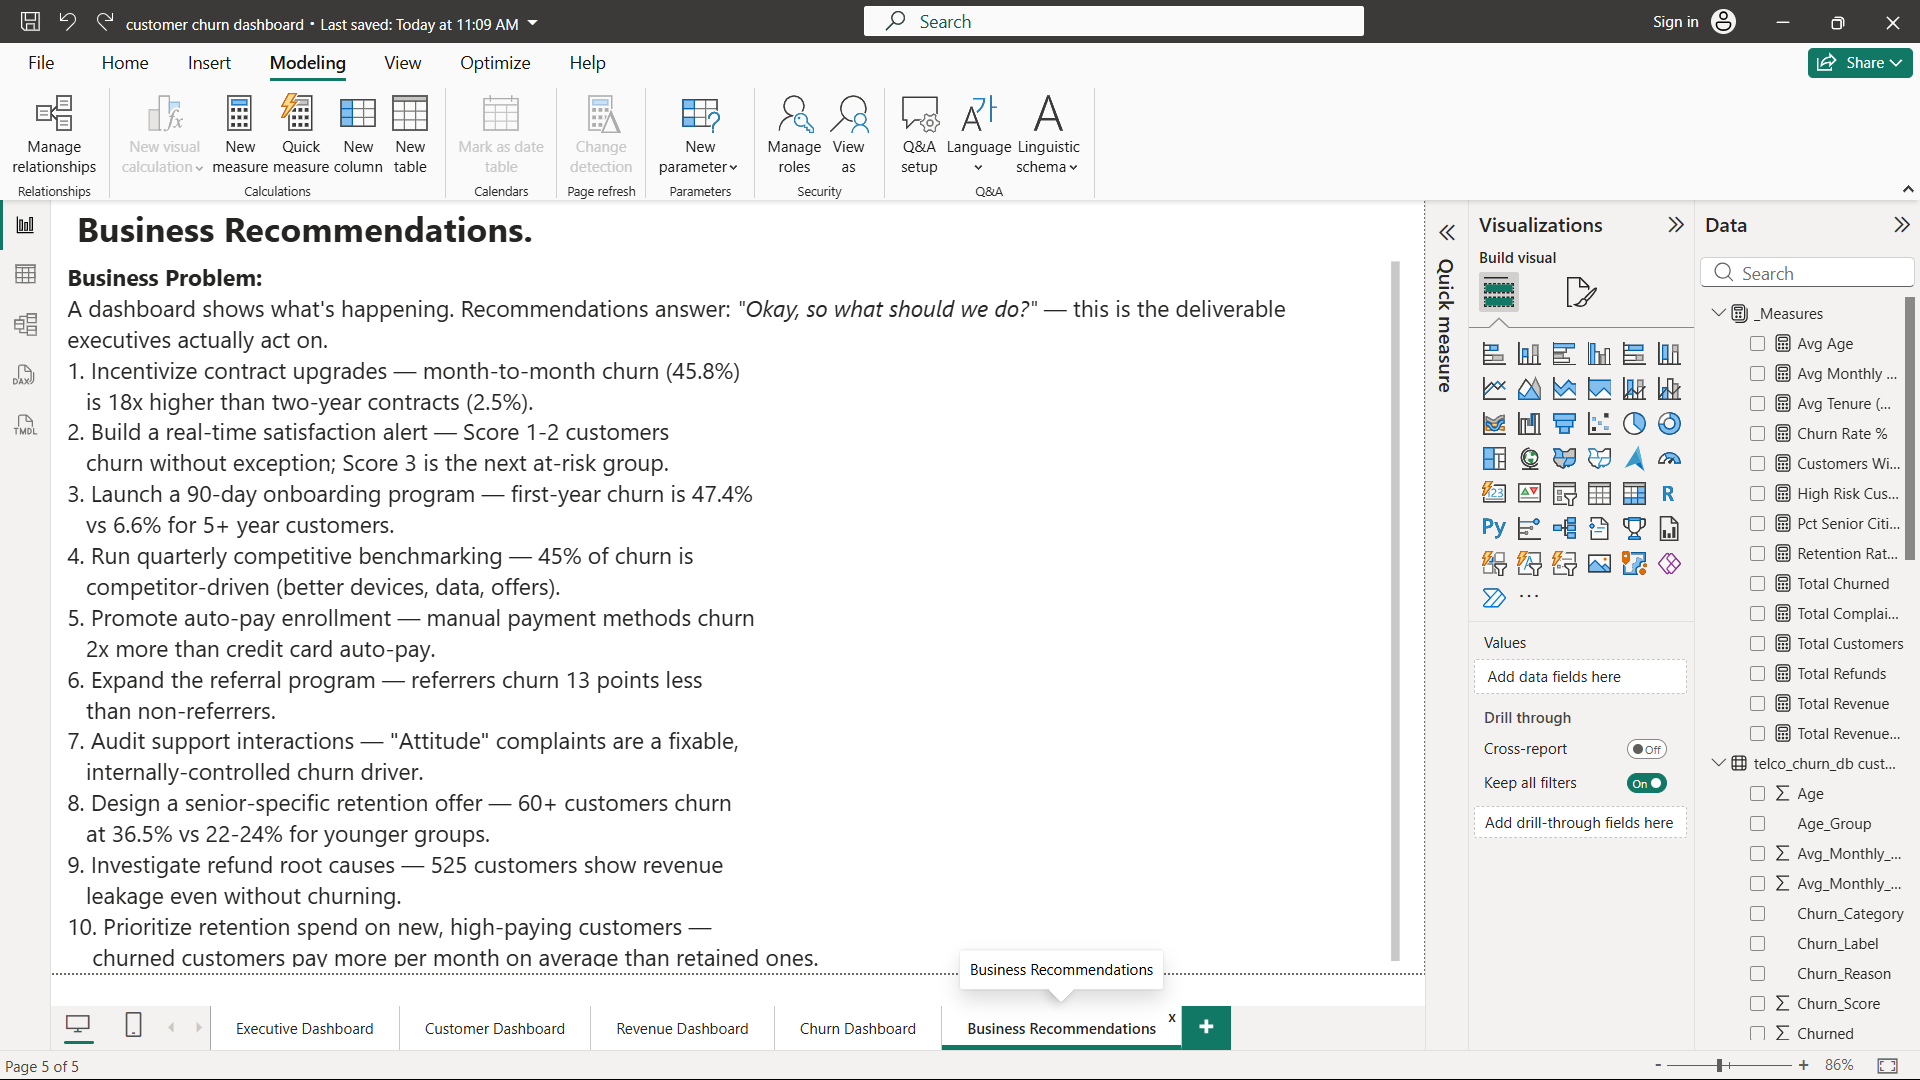

Layout of this report page (visuals, bound fields, positions):
{"tool":"powerbi","page":{"name":"Business Recommendations","canvas":[1280,720],"ordinal":4},"visuals":[{"type":"textbox","box":[10,0,513.1,69.8],"z":0},{"type":"textbox","box":[10,52.7,1251.5,667.1],"z":1000}]}

Visuals, with their boxes on the page's 1280x720 design canvas (x1, y1, x2, y2). These are canvas units, not pixel positions in the 1920x1080 screenshot, which may show the page scaled, cropped or inside an application window:
textbox: 10, 0, 523, 70
textbox: 10, 53, 1262, 720
